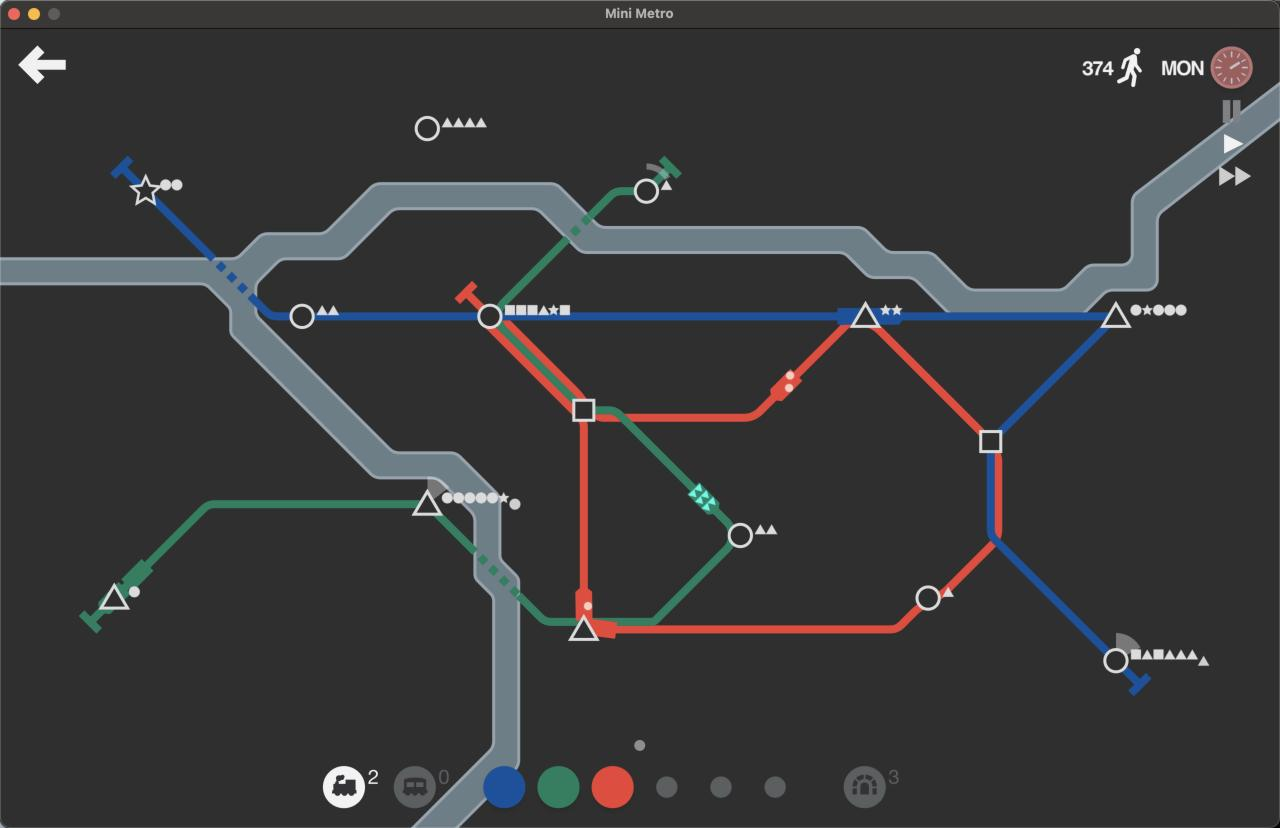CIRCLE: (633, 177, 660, 205), (289, 303, 316, 330), (414, 115, 441, 142), (915, 584, 941, 612), (477, 303, 503, 330), (727, 522, 753, 549), (1103, 647, 1129, 674)
SQUARE: (571, 398, 597, 424), (978, 429, 1003, 453)
STAR: (129, 174, 162, 206)
TRIANGLE: (411, 486, 445, 517), (567, 612, 600, 643), (99, 582, 132, 612), (850, 301, 882, 328), (1102, 301, 1132, 328)
